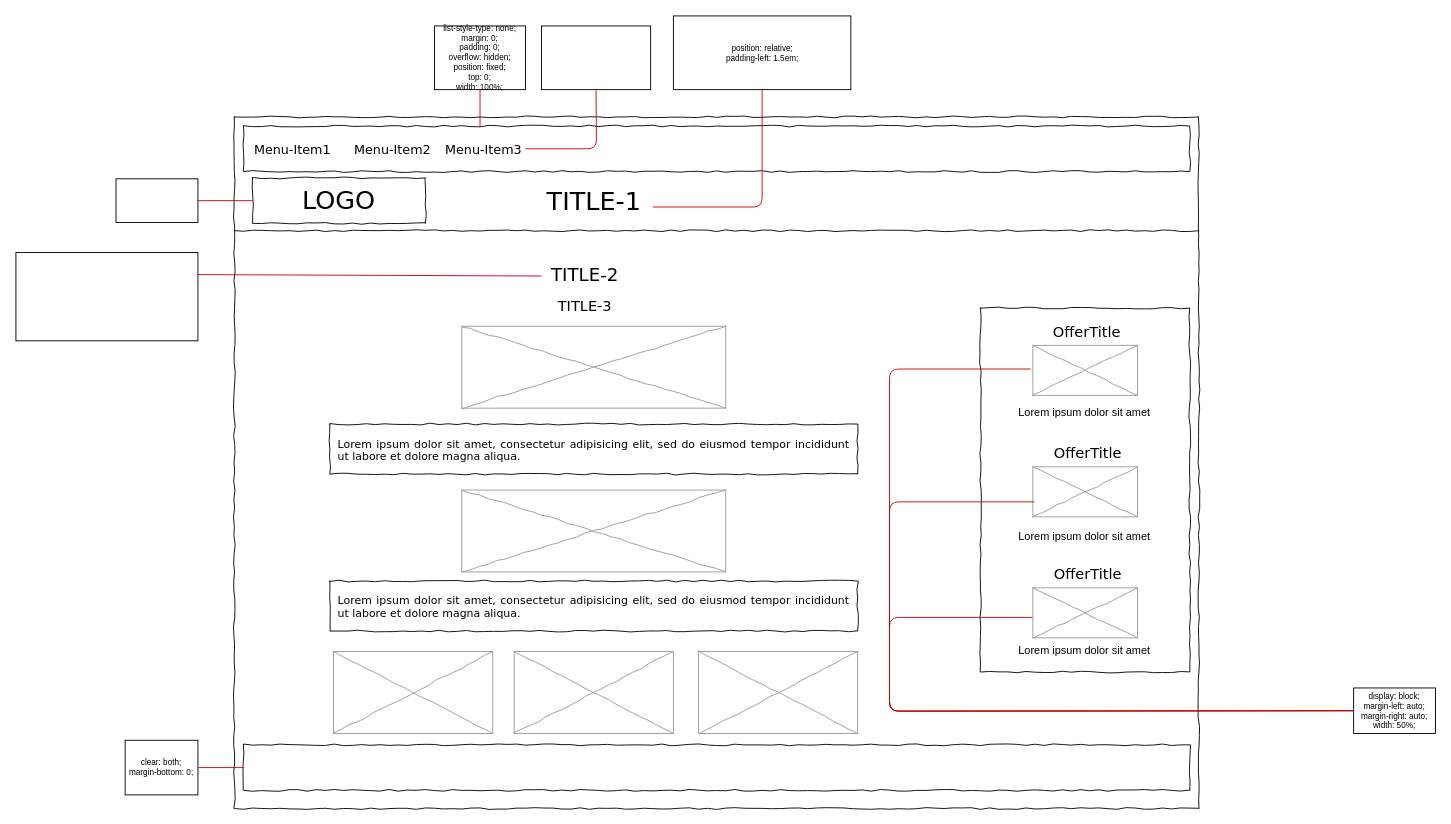
The diagram is 1451 pixels wide and 824 high, and some of its shapes have lost their labels. Each missing label, with the centre of its shape:
float: left; border-right: 1px solid #bbb;: [596,57]
float: left; padding-top: 1em;: [156,200]
Footer: [716,767]
position: relative; padding-left: 2em;: [106,296]
